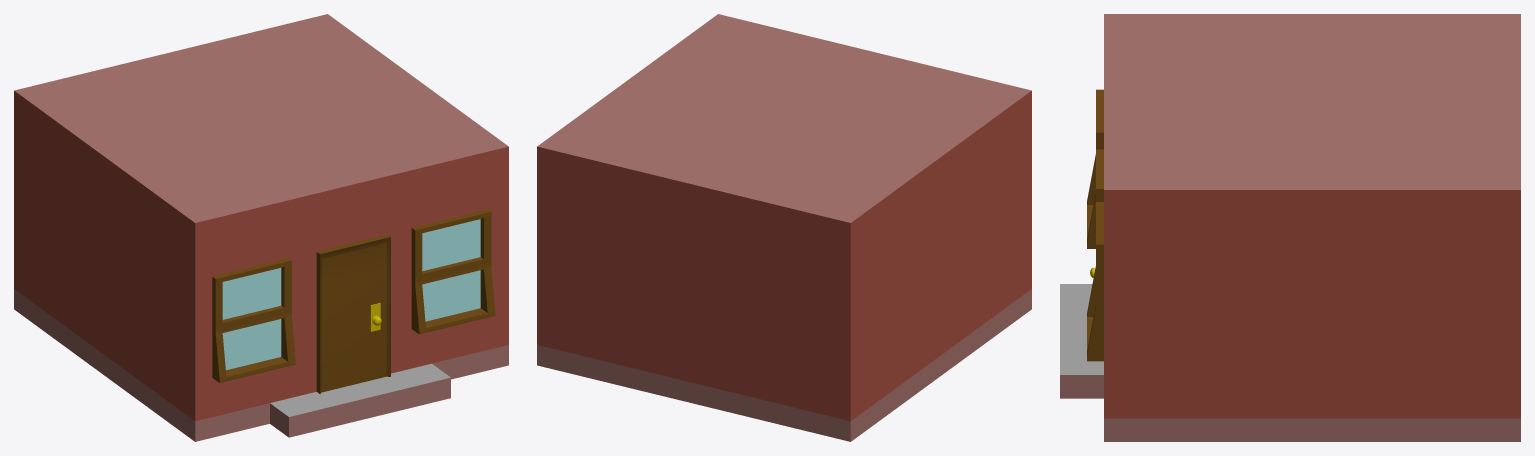
File: GroundV3.fbx
3 views of the same model, side by side, from view 1: azimuth 30°, elevation 25°; view 2: azimuth 150°, elevation 25°; view 3: azimuth 270°, elevation 25° (orthographic). The views are drawn at different scales.
Parts seen in each view (by area): view 1: pCube6, pasted__pCube8 (×2), pCube3; view 2: pCube6; view 3: pCube6, pasted__pCube8 (×2).
Part boxes in pixels (left/top/right/bottom): pCube6: left=14, top=14, right=508, bottom=441; pasted__pCube8 (×2): left=212, top=209, right=495, bottom=382; pCube3: left=316, top=234, right=390, bottom=393; pCube6: left=537, top=14, right=1031, bottom=441; pCube6: left=1060, top=14, right=1520, bottom=441; pasted__pCube8 (×2): left=1087, top=89, right=1103, bottom=361.
Bounding box in the file's own units: 25 × 16.67 × 27.64.
